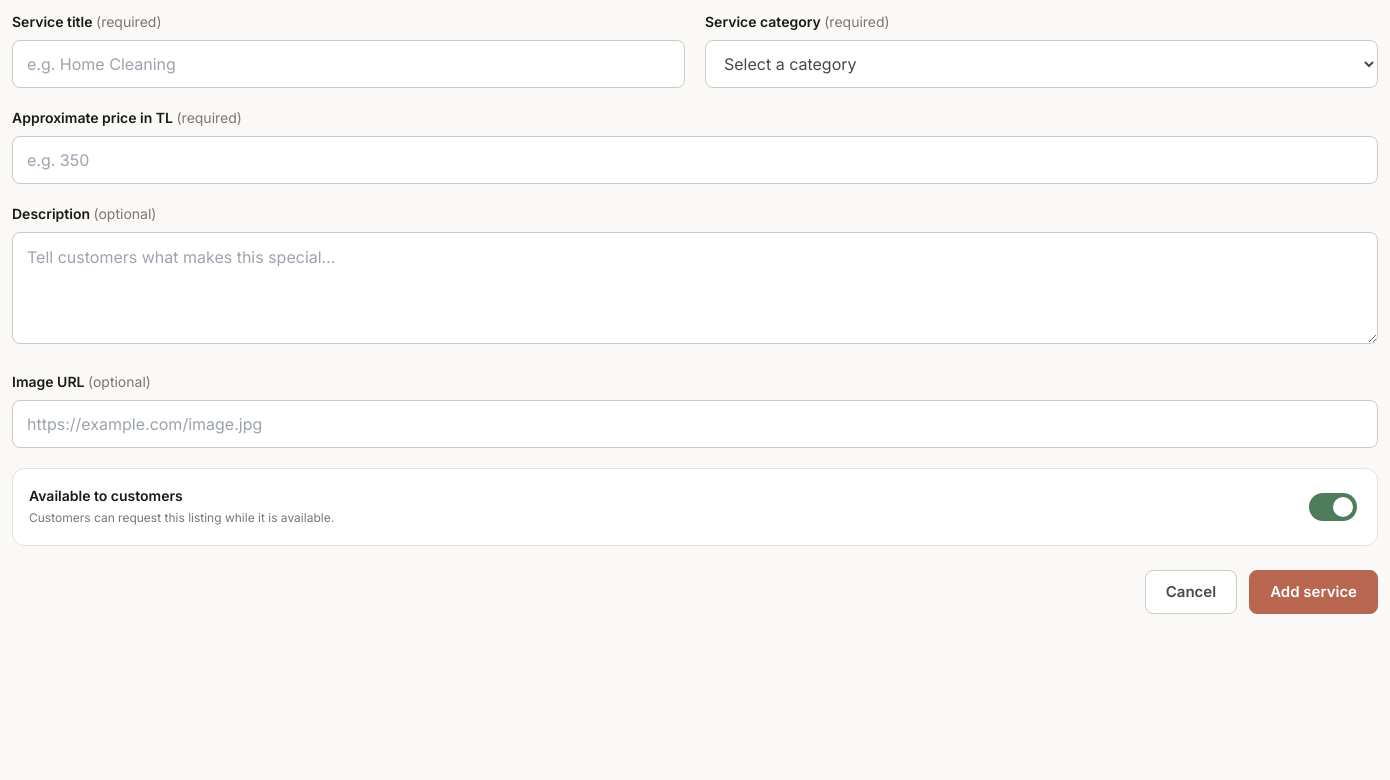
Scenario: listing form validation › rejects invalid service values
Click the button "Add service" at (1314, 592), box [1249,570,1378,614]
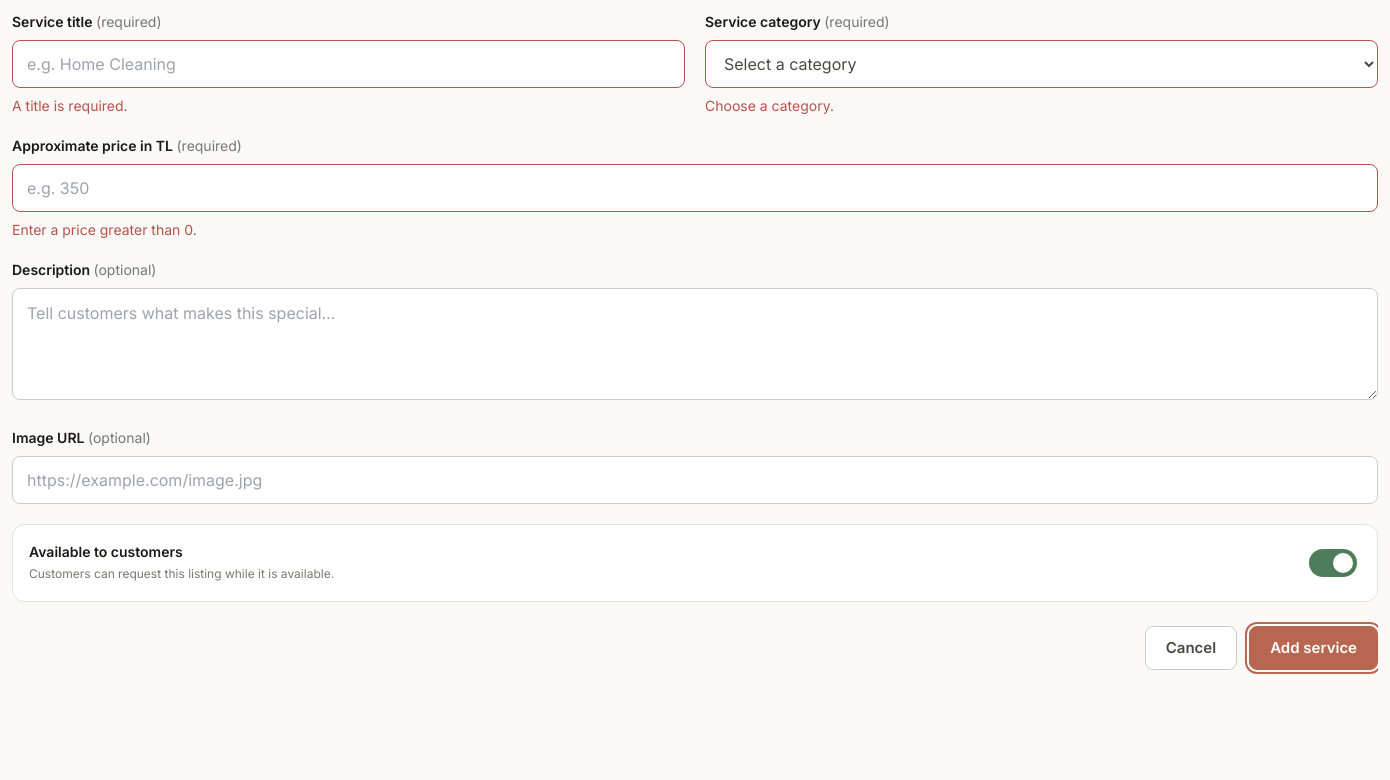
Check: the text "A title is required." is shown, box [12,97,128,114]
Check: the text "Choose a category." is shown, box [705,97,834,114]
Check: the text "Enter a price greater than 0." is shown, box [12,221,197,238]
